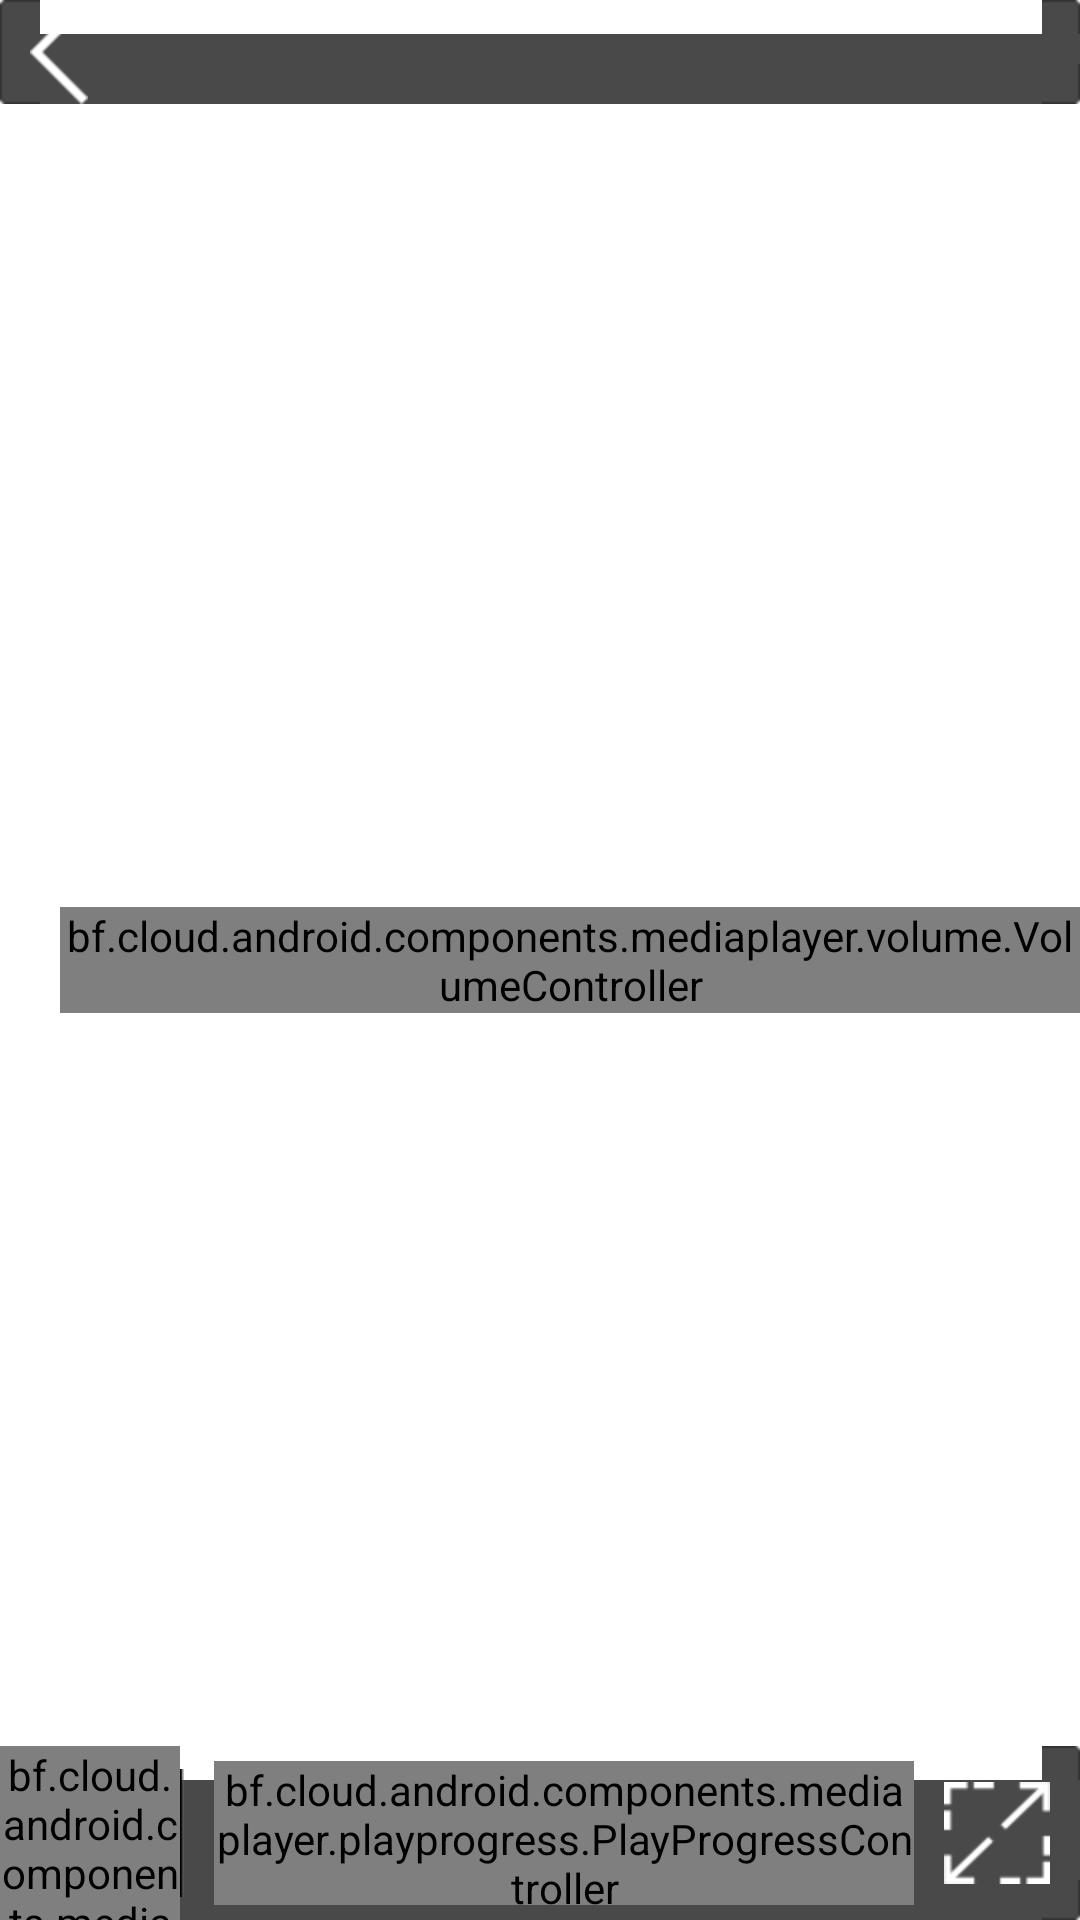

Screen size 1080 × 1920. Icon name, then its center in pixels as (x=x, y=y):
back: (x=59, y=52)
fullscreen: (x=997, y=1833)
